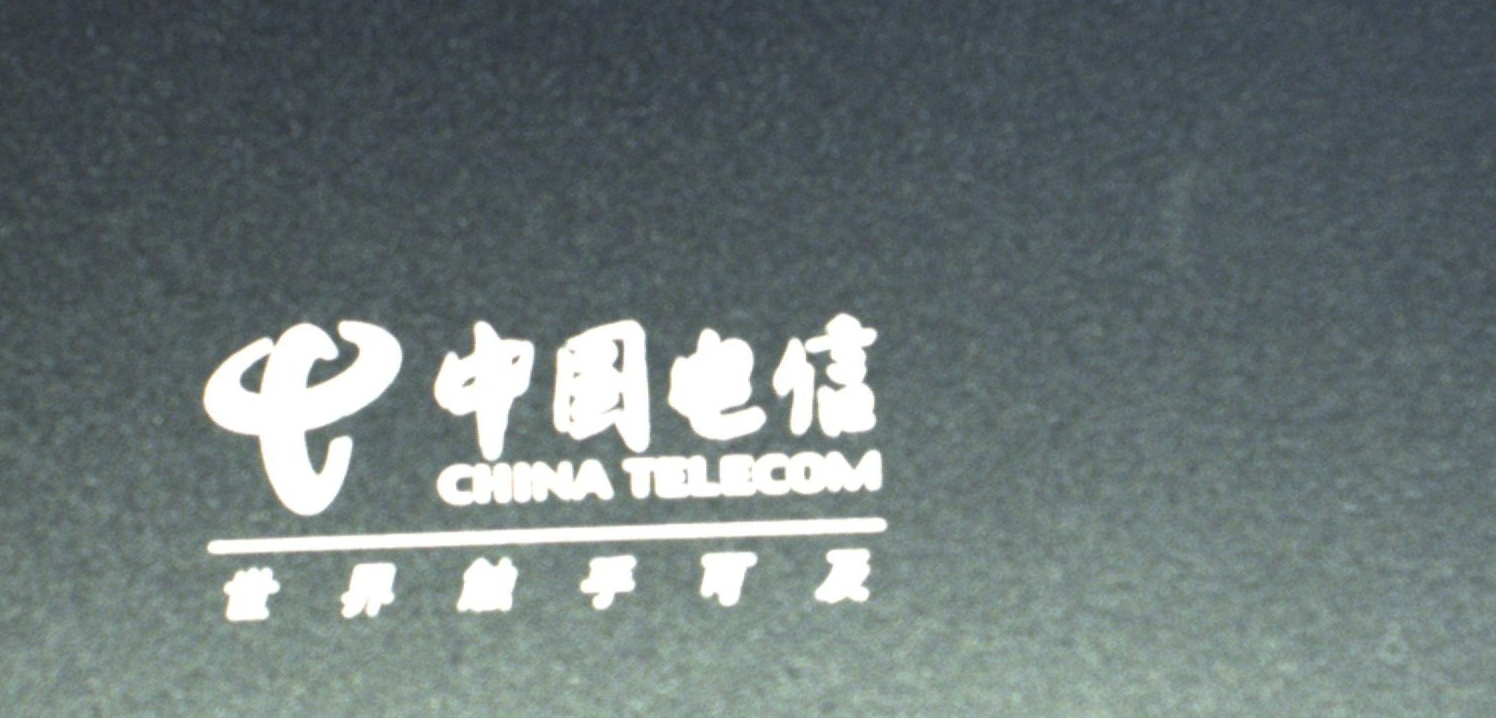AB_ChinaTelecom: (197, 309, 892, 624)
